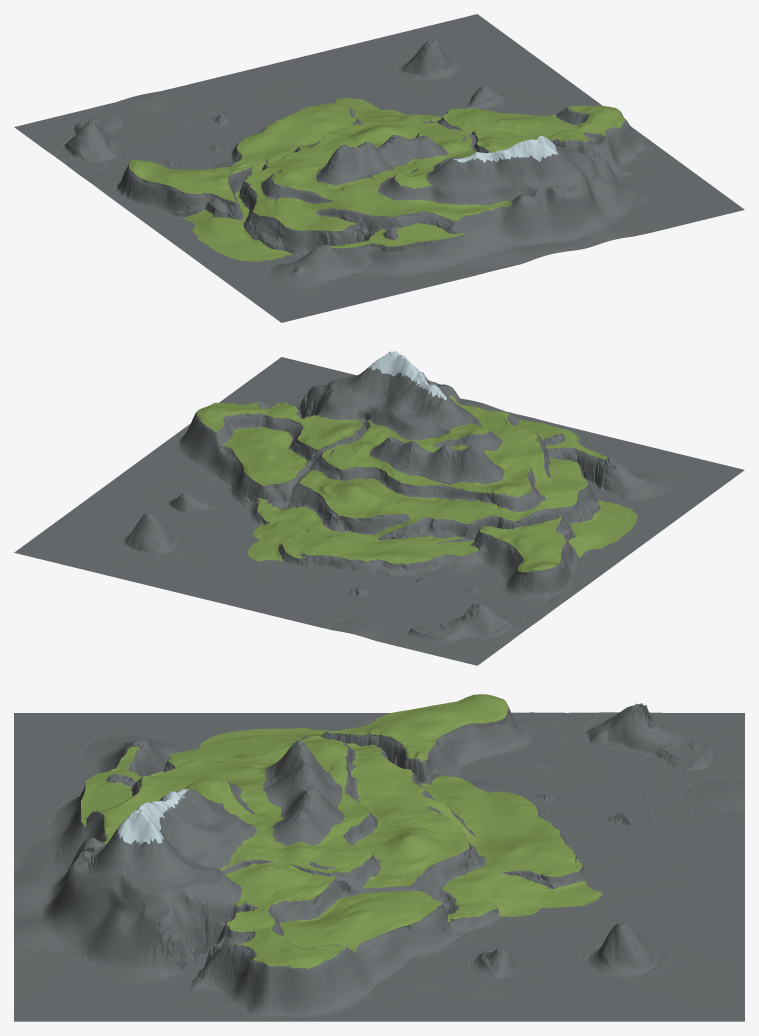
Rendered from Terrain_Island.fbx.
3 views of the same model, one above another, from view 1: azimuth 30°, elevation 25°; view 2: azimuth 150°, elevation 25°; view 3: azimuth 270°, elevation 25° (orthographic). The views are drawn at different scales.
Visible parts, largest first — view 1: LowPolyIsland; view 2: LowPolyIsland; view 3: LowPolyIsland.
Boxes of the visible parts, left/top/right/bottom form: LowPolyIsland: left=14, top=14, right=744, bottom=322; LowPolyIsland: left=14, top=351, right=744, bottom=665; LowPolyIsland: left=14, top=694, right=744, bottom=1021.
Size of the model in its own units: 1000 by 160 by 1000.
